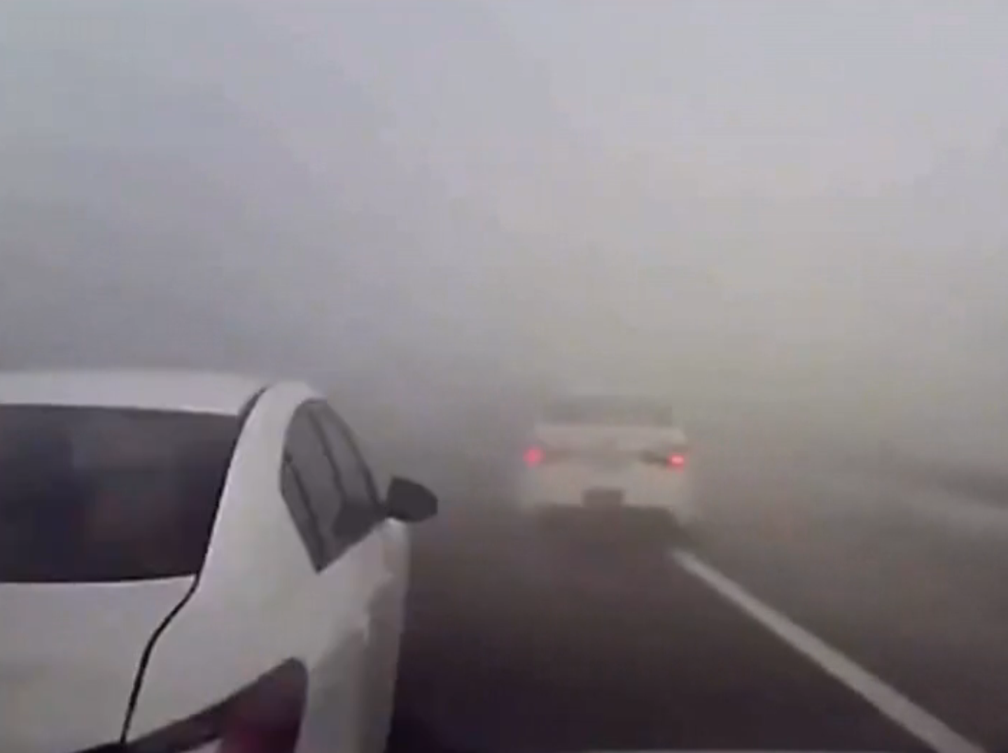car: (1, 362, 440, 753), (516, 386, 710, 547)
